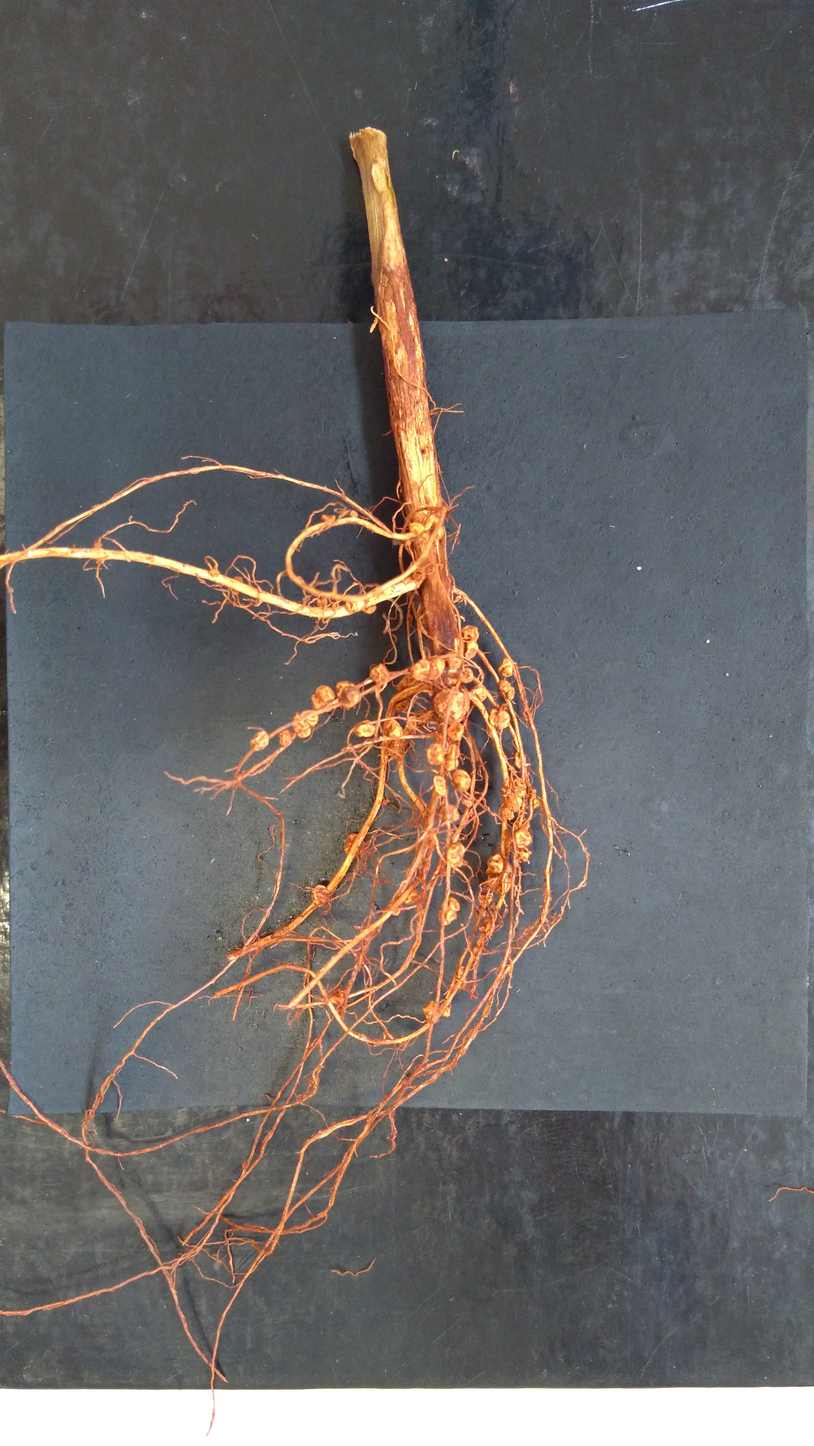nodule: (430, 688, 469, 725), (335, 680, 364, 709), (488, 861, 513, 894), (310, 683, 335, 711), (342, 832, 366, 857), (408, 657, 432, 682), (247, 730, 272, 753), (445, 841, 466, 868), (290, 717, 313, 740), (488, 708, 511, 730), (381, 718, 404, 740), (425, 741, 444, 767), (428, 654, 446, 681), (368, 662, 390, 684), (512, 826, 533, 849), (452, 768, 471, 793), (484, 853, 504, 875), (436, 909, 459, 927), (420, 1000, 438, 1023), (444, 722, 465, 741), (470, 685, 490, 704), (311, 882, 328, 904), (329, 985, 346, 1007), (432, 774, 448, 797), (352, 723, 376, 738), (460, 624, 480, 642), (402, 888, 422, 906), (440, 804, 460, 822), (497, 656, 514, 677), (506, 793, 523, 813), (463, 640, 479, 661), (300, 709, 319, 726), (445, 743, 462, 760), (477, 892, 494, 909), (392, 698, 410, 714), (407, 521, 426, 536), (277, 728, 292, 747), (459, 666, 474, 684), (343, 600, 359, 615), (447, 656, 463, 671), (497, 679, 512, 694), (404, 715, 418, 731), (444, 758, 459, 772), (447, 897, 461, 912), (500, 807, 514, 822), (362, 603, 378, 616), (504, 685, 515, 702), (519, 846, 531, 861), (441, 1002, 452, 1018), (319, 514, 336, 523), (317, 598, 332, 607), (207, 568, 220, 577), (348, 509, 359, 519), (532, 798, 542, 809), (232, 575, 244, 584), (529, 787, 537, 800), (229, 587, 240, 594)
